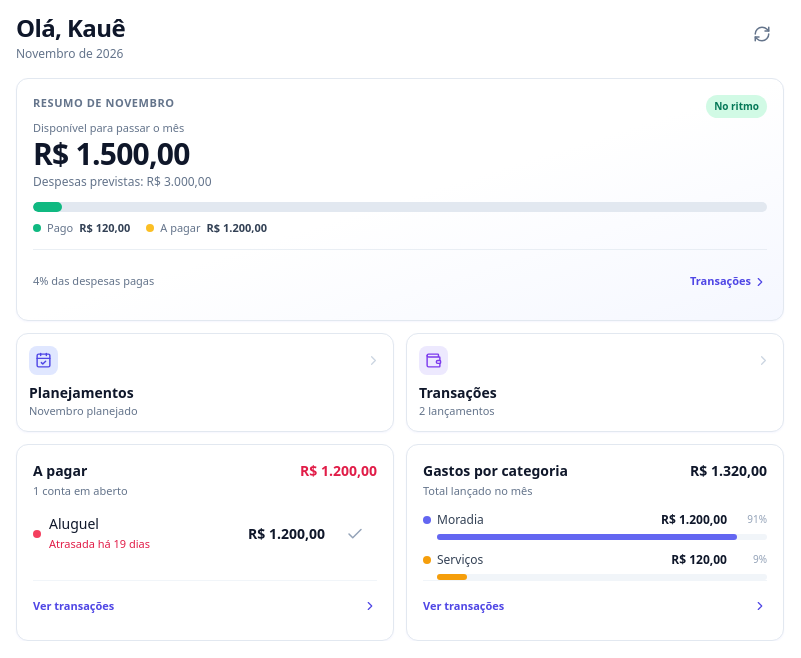
it: Dashboard › permite marcar uma conta como paga direto no dashboard
Click the button named "Marcar Aluguel como paga": (355, 534) [333,512,377,556]
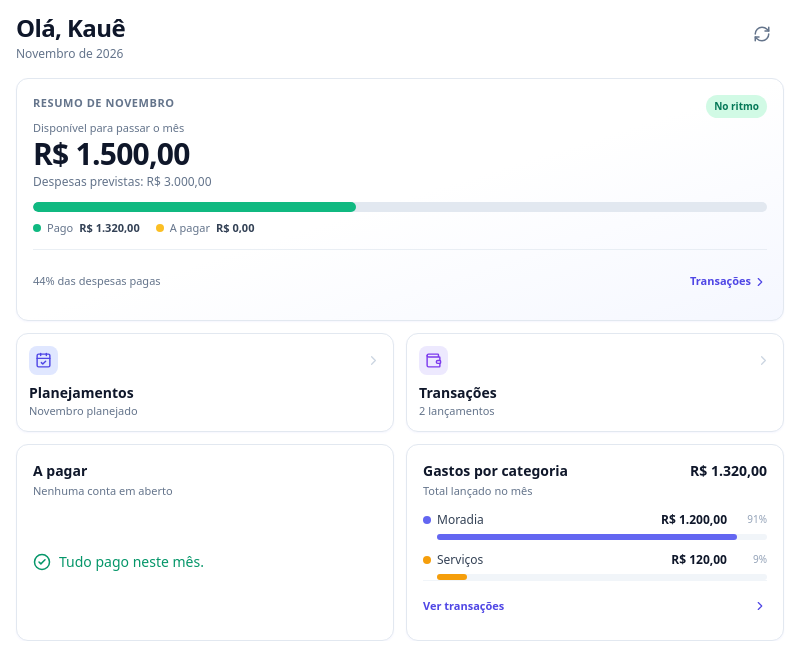
Check: the text "Aluguel" is gone
